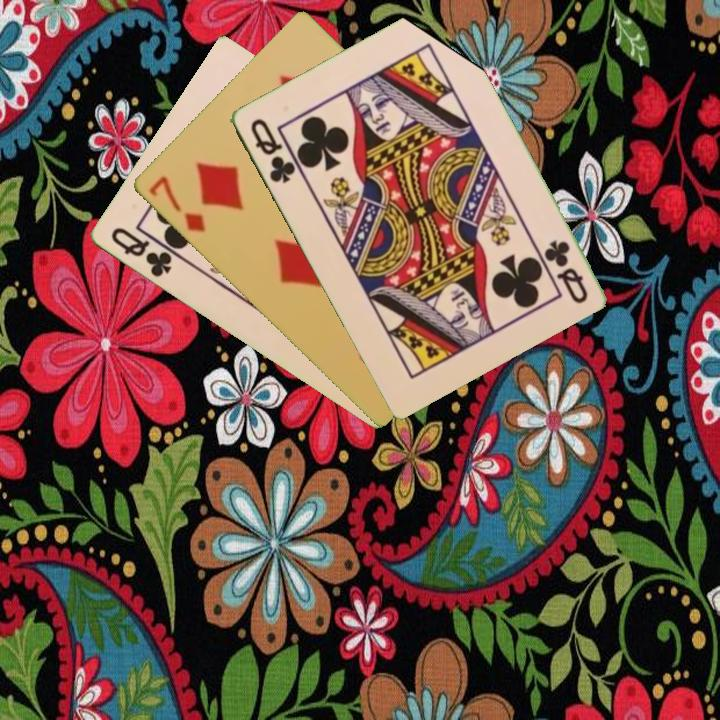7d: (145, 172, 208, 236)
Qc: (106, 223, 175, 281), (246, 114, 298, 187), (540, 236, 590, 307)
